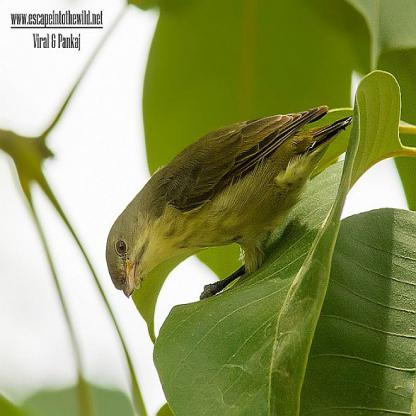Burung: (104, 91, 354, 311)
